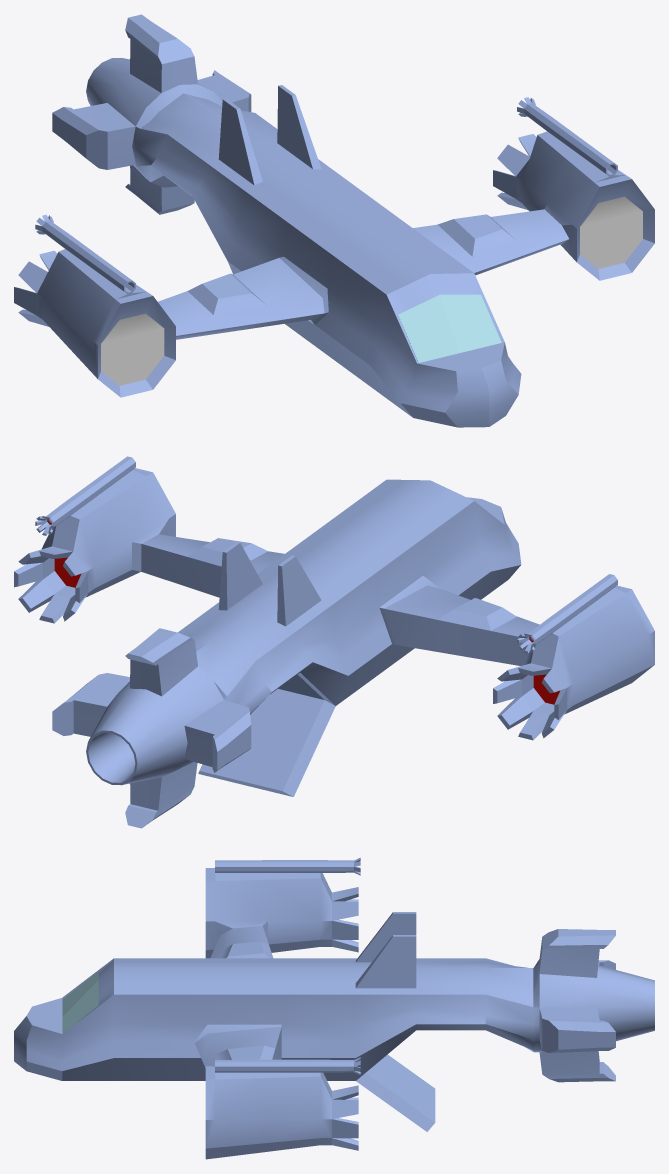
The model's file is Cargo Ship .fbx.
3 views of the same model, one above another, from view 1: azimuth 30°, elevation 25°; view 2: azimuth 150°, elevation 25°; view 3: azimuth 270°, elevation 25° (orthographic). The views are drawn at different scales.
Parts seen in each view (by area): view 1: Cube; view 2: Cube; view 3: Cube.
Boxes of the visible parts, left/top/right/bottom form: Cube: left=14, top=14, right=654, bottom=427; Cube: left=14, top=456, right=654, bottom=828; Cube: left=14, top=857, right=654, bottom=1159.
Size of the model in its own units: 1166 by 443 by 1369.
